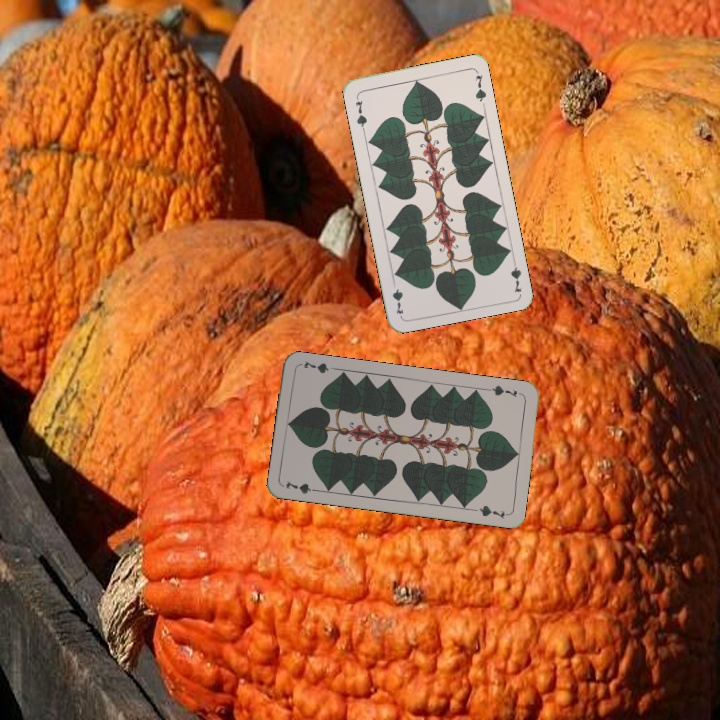G7: (282, 477, 322, 496), (351, 92, 369, 132), (507, 253, 524, 295), (484, 381, 519, 399)
